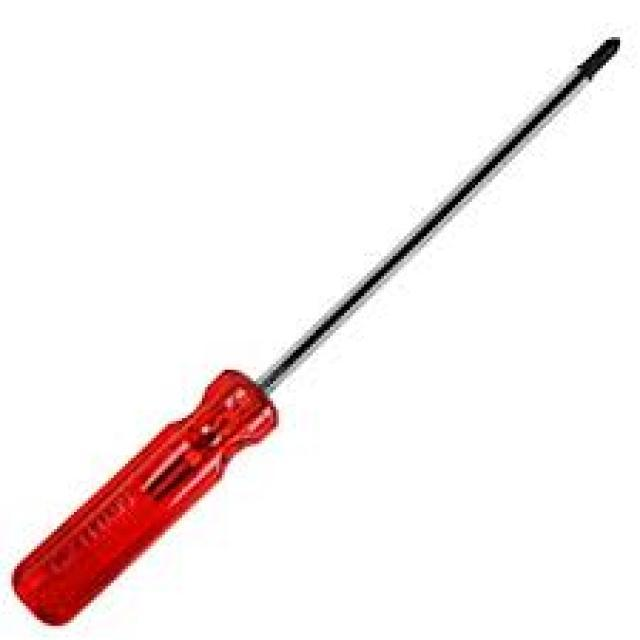screwdriver: (7, 31, 627, 632)
